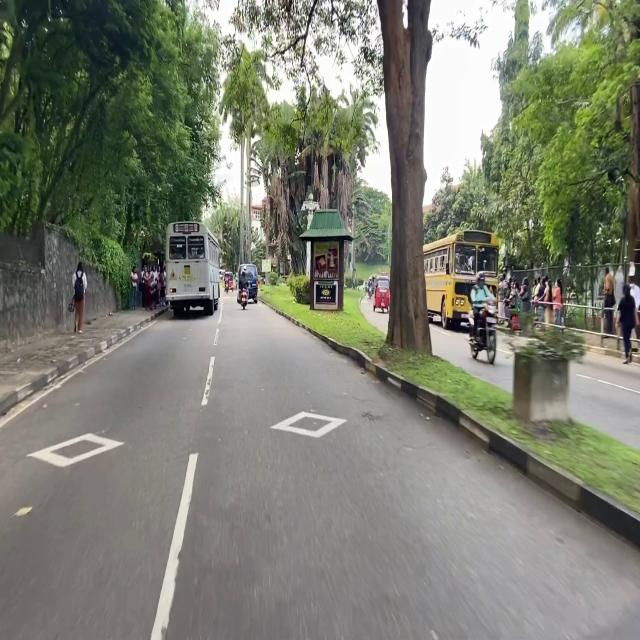bus: (424, 231, 498, 328), (166, 222, 219, 316)
motorcycle: (470, 301, 496, 364), (240, 288, 247, 309), (367, 286, 371, 299), (225, 278, 228, 293)
person: (470, 271, 494, 337), (618, 284, 636, 364), (73, 261, 87, 334), (604, 267, 614, 334), (553, 278, 563, 325), (544, 279, 553, 329), (142, 267, 152, 310), (539, 277, 546, 323), (131, 266, 138, 310), (520, 277, 529, 311), (498, 276, 504, 319), (532, 277, 540, 309), (152, 265, 158, 307), (160, 269, 166, 306), (239, 271, 248, 290), (224, 271, 228, 282)
three wheeler: (373, 276, 389, 312), (229, 272, 234, 291)
van: (237, 264, 257, 303)
